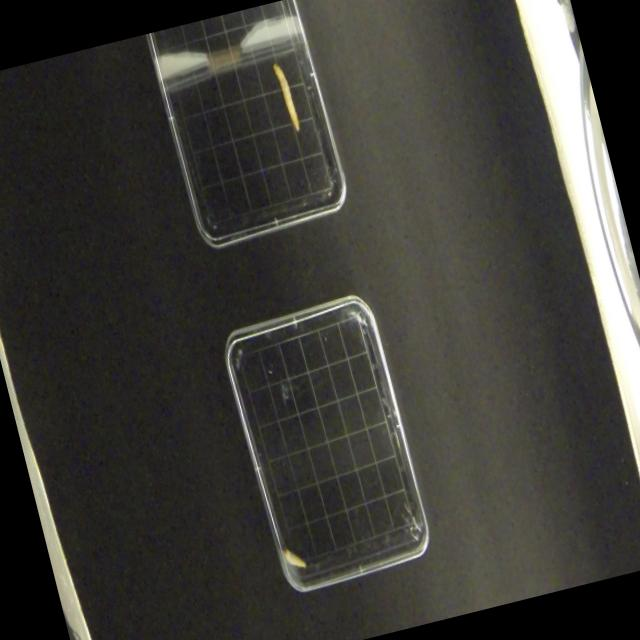larva: (268, 57, 303, 137), (280, 539, 308, 575)
